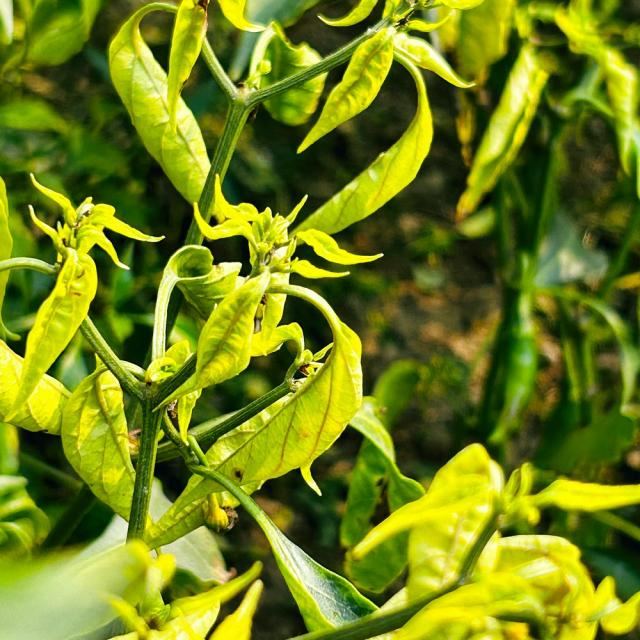Chilli_Leaf_Curl: (1, 0, 638, 638), (147, 279, 364, 547), (344, 442, 638, 638), (257, 1, 478, 238), (1, 172, 164, 432), (106, 0, 240, 226), (161, 0, 209, 140)
